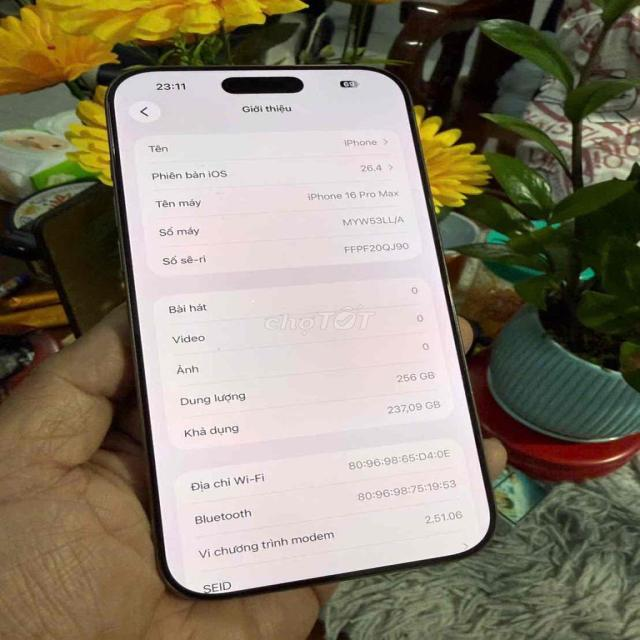gen_16: (105, 65, 493, 600)
